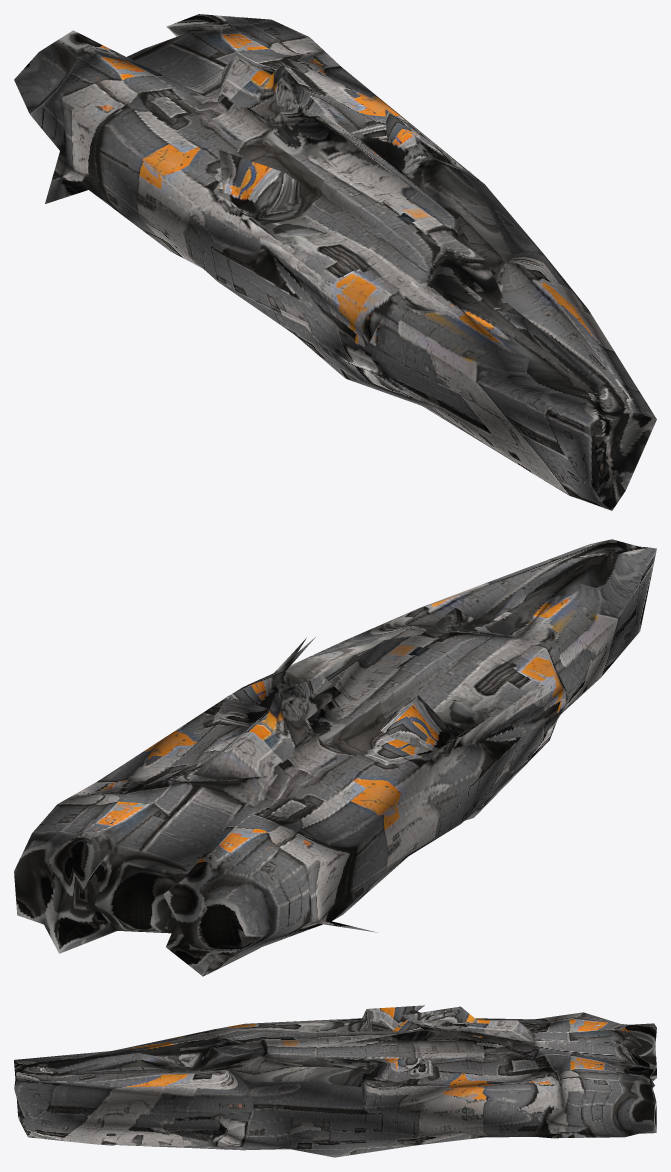
File: tripo-rebaked-300.glb
The picture shows the model from 3 angles, top to bottom: view 1: azimuth 30°, elevation 25°; view 2: azimuth 150°, elevation 25°; view 3: azimuth 270°, elevation 25°; orthographic projection. The views are drawn at different scales.
Parts seen in each view (by area): view 1: Low; view 2: Low; view 3: Low.
Part boxes in pixels (x1,y1,x2,y2): Low: [14, 14, 656, 510]; Low: [14, 539, 656, 976]; Low: [14, 1005, 656, 1157].
Size of the model in its own units: 0.3457 by 0.2341 by 0.9659.
1 material, 1 textured.
